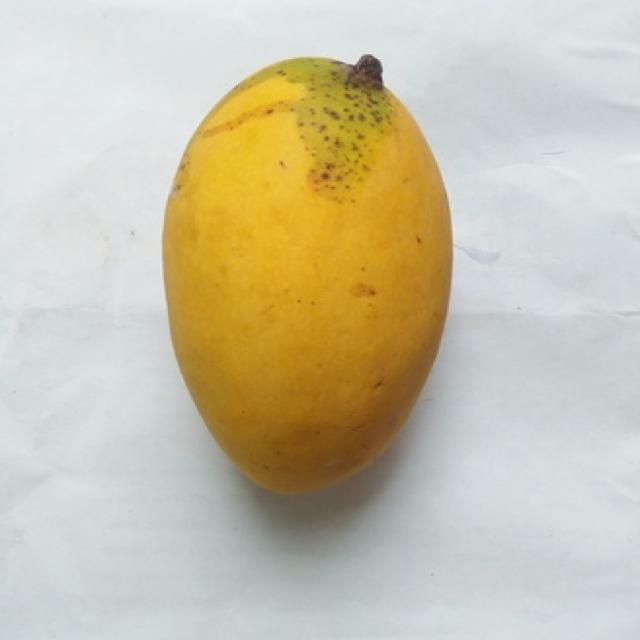Mango: (164, 57, 451, 492)
